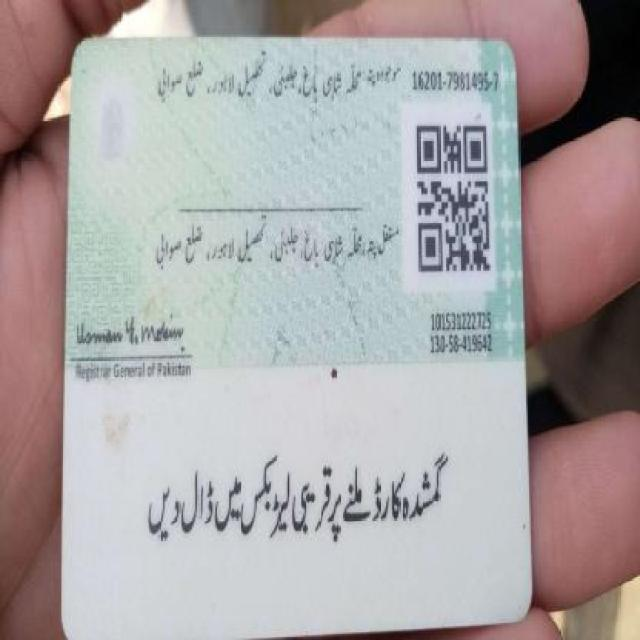Back: (57, 28, 537, 634)
